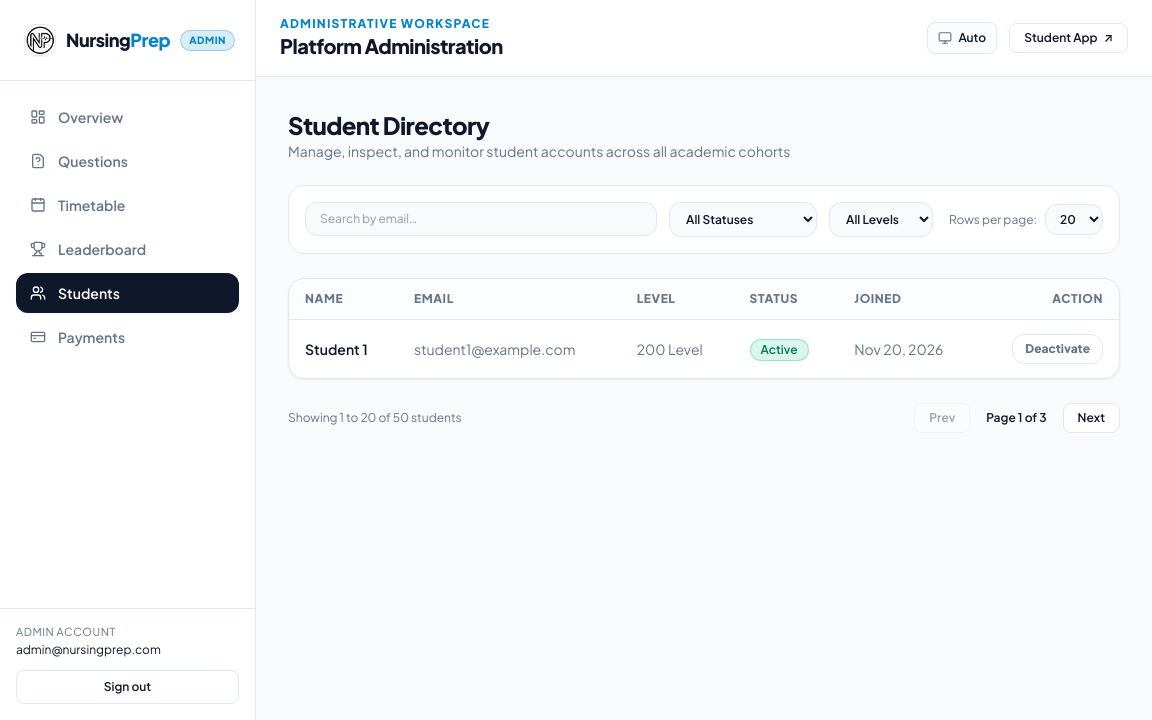
Test case: AdminStudentsPage Tests › pagination proof: Next calls admin_list_students with p_offset = pageSize, and Prev returns to p_offset 0
expect the text "Page 1 of 3" is shown: met, box [986, 410, 1047, 425]
// Click Next
Click the button with aria-label "Next page".
click(1091, 418)  # box [1063, 403, 1120, 433]
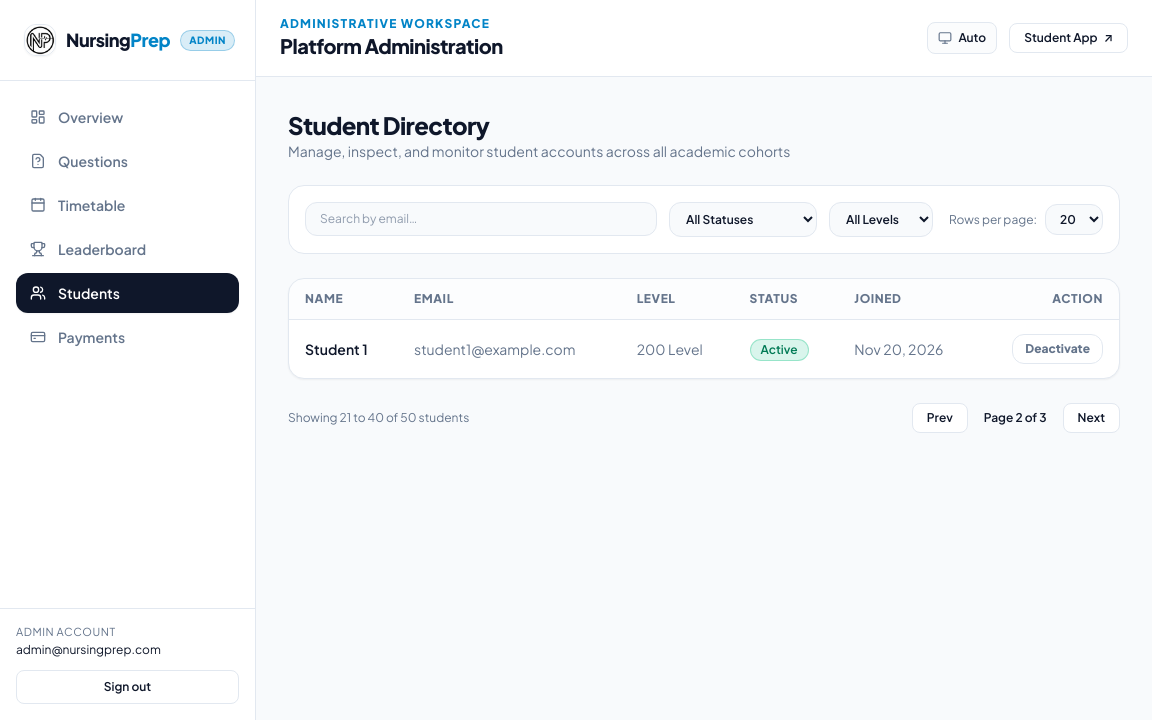
expect the text "Page 2 of 3" is shown: met, box [984, 410, 1047, 425]
// Click Prev
Click the button with aria-label "Previous page".
click(940, 418)  # box [912, 403, 968, 433]
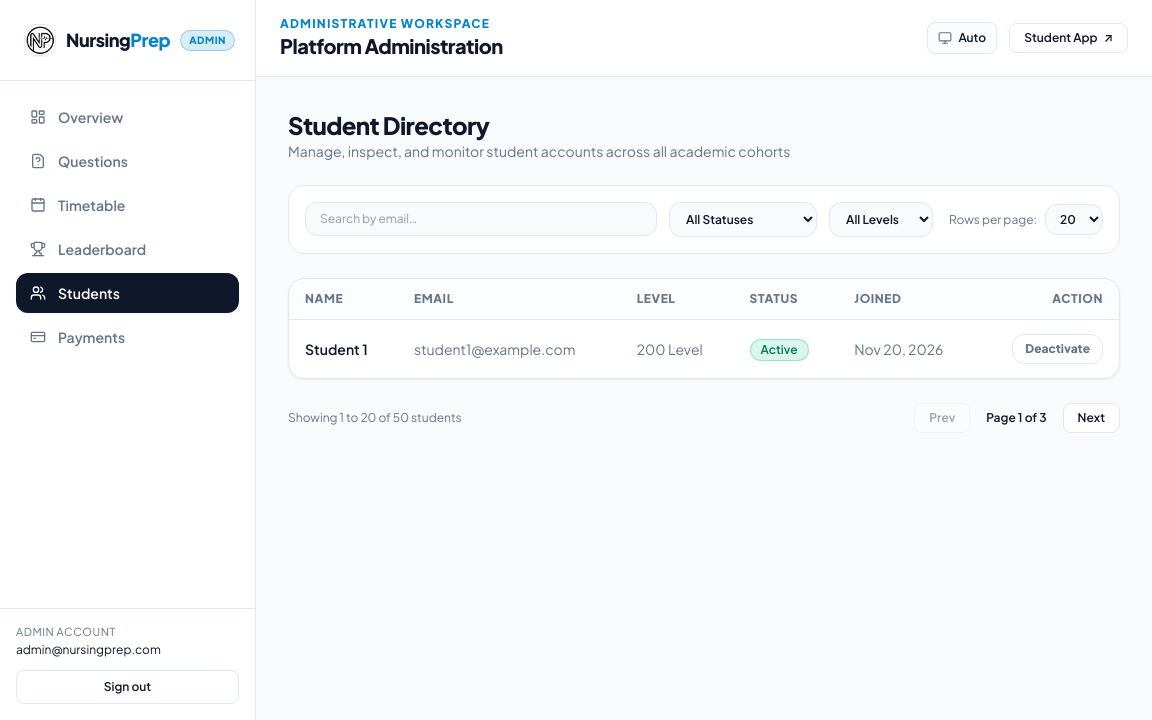
expect the text "Page 1 of 3" is shown: met, box [986, 410, 1047, 425]
